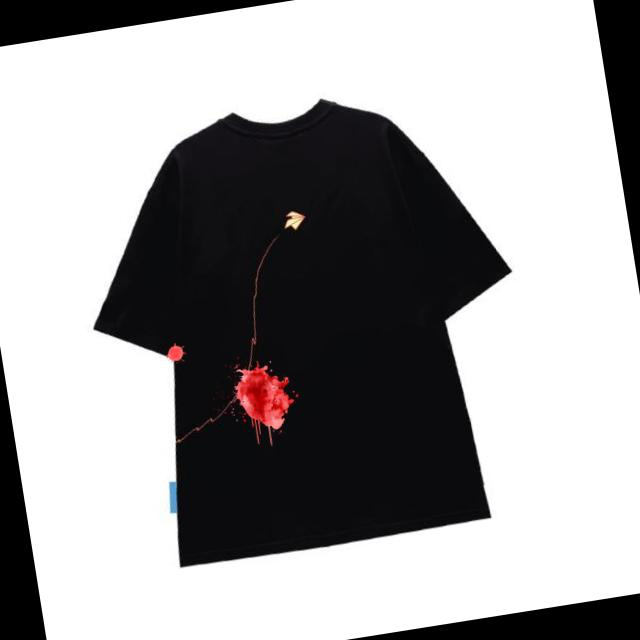stain: (228, 352, 304, 449), (162, 338, 194, 372)
